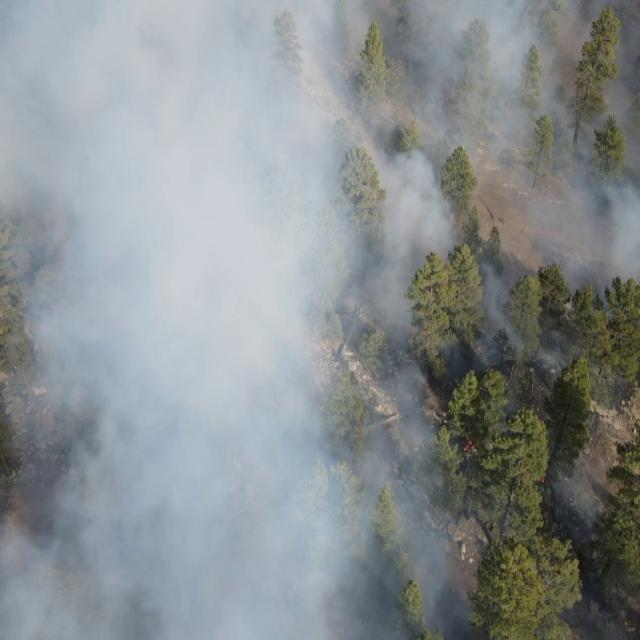smoke: (3, 0, 640, 275), (2, 274, 564, 488), (3, 491, 453, 639), (554, 462, 609, 524), (567, 282, 640, 322)
